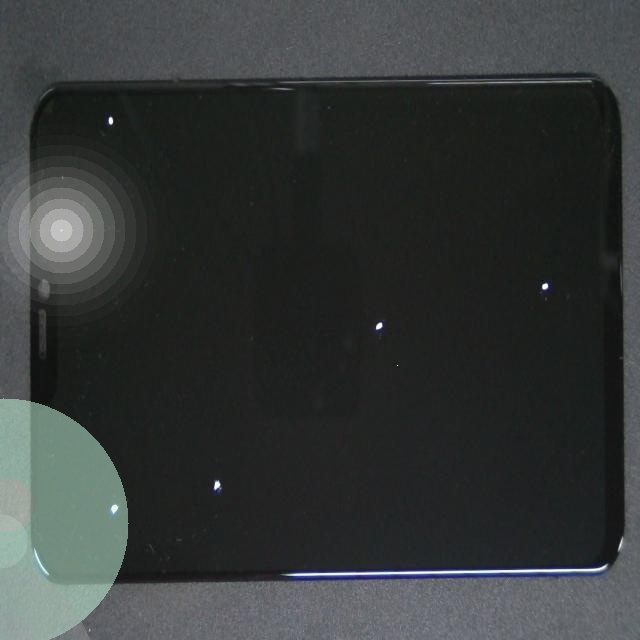stain: (187, 135, 555, 502), (267, 102, 640, 429), (101, 254, 309, 640), (50, 266, 152, 640), (78, 52, 179, 157)
